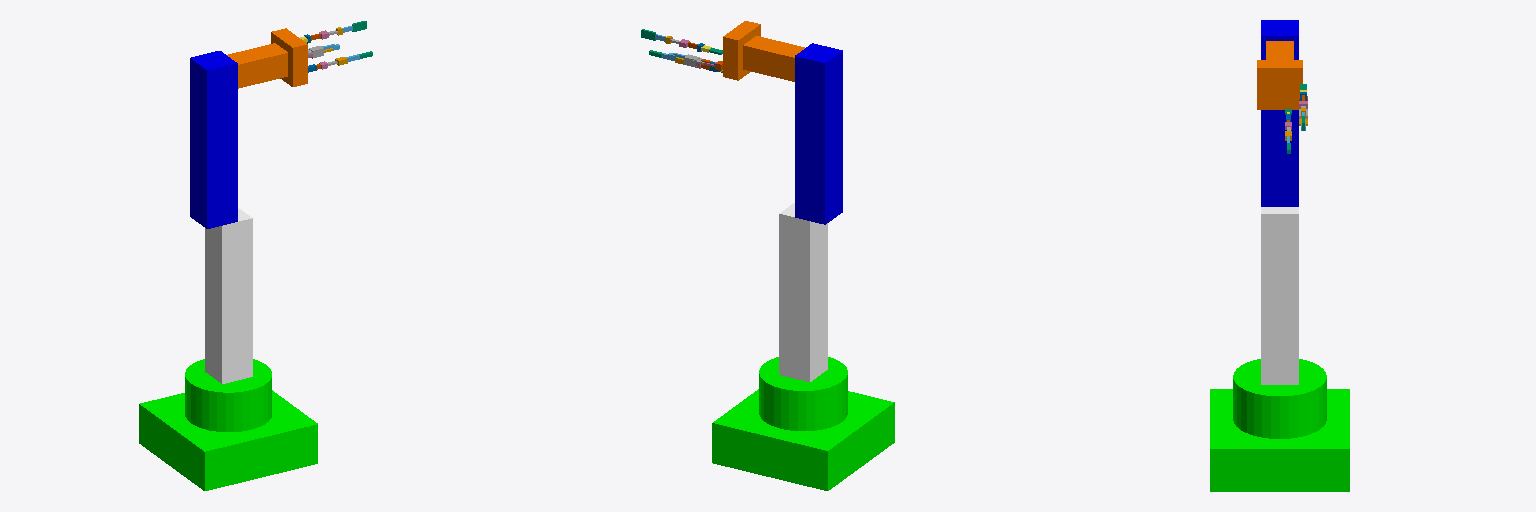
--- Render facts (derived) ---
Views: 3 orthographic renders of the robot side by side, from view 1: azimuth 30°, elevation 25°; view 2: azimuth 150°, elevation 25°; view 3: azimuth 270°, elevation 25°.
Model robot with 35 links and 34 joints (31 revolute, 1 continuous, 2 fixed), rooted at base_link, posed all joints at 0.
Visible links, largest first — view 1: base_link, arm_link, support_link, wrist_link, palm_link; view 2: base_link, arm_link, support_link, wrist_link, palm_link; view 3: base_link, support_link, arm_link, palm_link, wrist_link.
Boxes of the visible links, x1,y1,x2,y2 form: base_link: (139,359,317,490); arm_link: (190,51,237,228); support_link: (205,208,252,383); wrist_link: (227,43,287,88); palm_link: (271,28,307,86); base_link: (712,357,894,490); arm_link: (795,43,842,224); support_link: (779,203,827,381); wrist_link: (743,36,804,81); palm_link: (723,21,760,80); base_link: (1210,359,1349,491); support_link: (1261,207,1298,384); arm_link: (1261,20,1298,206); palm_link: (1257,60,1302,109); wrist_link: (1266,41,1293,59).
Size in the robot's own frame: 1.35 by 0.75 by 2.52 metres.
Geometry: primitives only (box / cylinder / sphere), no mesh files.

The robot description file, URDF, robot "robot":
<?xml version='1.0' encoding='utf-8'?>
<robot name="robot">
  <link name="base_link">
    <visual>
      <origin xyz="0 0 0.125" rpy="0 0 0" />
      <geometry>
        <box size="0.75 0.75 0.25" />
      </geometry>
      <material name="green" />
    </visual>
    <visual>
      <origin xyz="0 0 0.375" rpy="0 0 0" />
      <geometry>
        <cylinder length="0.25" radius="0.25" />
      </geometry>
      <material name="green">
        <color rgba="0 1 0 1" />
      </material>
    </visual>
    <collision>
      <geometry>
        <box size="0.75 0.75 0.5" />
      </geometry>
    </collision>
    <inertial>
      <mass value="0.5" />
      <inertia ixx="0.034" ixy="0.0" ixz="0.0" iyy="0.034" iyz="0.0" izz="0.034" />
    </inertial>
  </link>
  <link name="support_link">
    <visual>
      <origin xyz="0 0 0.5" rpy="0 0 0" />
      <geometry>
        <box size="0.2 0.2 1" />
      </geometry>
      <material name="white">
        <color rgba="1 1 1 1" />
      </material>
    </visual>
    <collision>
      <geometry>
        <box size="0.2 0.2 1" />
      </geometry>
    </collision>
    <inertial>
      <mass value="0.1" />
      <inertia ixx="0.01" ixy="0.0" ixz="0.0" iyy="0.01" iyz="0.0" izz="0.01" />
    </inertial>
  </link>
  <joint name="support_joint" type="continuous">
    <origin xyz="0 0 0.5" rpy="0 0 0" />
    <parent link="base_link" />
    <child link="support_link" />
    <axis xyz="0 0 1" />
  </joint>
  <link name="arm_link">
    <visual>
      <origin xyz="0 0 0.5" rpy="0 0 0" />
      <geometry>
        <box size="0.2 0.2 1" />
      </geometry>
      <material name="blue">
        <color rgba="0 0 1 1" />
      </material>
    </visual>
    <collision>
      <geometry>
        <box size="0.2 0.2 1" />
      </geometry>
    </collision>
    <inertial>
      <mass value="0.1" />
      <inertia ixx="0.01" ixy="0.0" ixz="0.0" iyy="0.01" iyz="0.0" izz="0.01" />
    </inertial>
  </link>
  <joint name="arm_joint" type="revolute">
    <origin xyz="-0.1 0 1" rpy="0 0 0" />
    <parent link="support_link" />
    <child link="arm_link" />
    <axis xyz="0 1 0" />
    <limit lower="-3.14" upper="3.14" effort="1.0" velocity="1.0" />
  </joint>
  <link name="wrist_link">
    <visual>
      <origin xyz="0 0 0.25" rpy="0 0 0" />
      <geometry>
        <box size="0.15 0.15 0.5" />
      </geometry>
      <material name="orange">
        <color rgba="1 0.5 0 1" />
      </material>
    </visual>
    <collision>
      <geometry>
        <box size="0.15 0.15 0.5" />
      </geometry>
    </collision>
    <inertial>
      <mass value="0.1" />
      <inertia ixx="0.01" ixy="0.0" ixz="0.0" iyy="0.01" iyz="0.0" izz="0.01" />
    </inertial>
  </link>
  <joint name="wrist_joint" type="fixed">
    <origin xyz="0 0 0.9" rpy="0 1.571 0" />
    <parent link="arm_link" />
    <child link="wrist_link" />
  </joint>
  <link name="palm_link">
    <visual>
      <origin xyz="0 0 0.05" rpy="0 0 0" />
      <geometry>
        <box size="0.25 0.25 0.1" />
      </geometry>
      <material name="orange" />
    </visual>
    <collision>
      <geometry>
        <box size="0.25 0.25 0.1" />
      </geometry>
    </collision>
    <inertial>
      <mass value="0.1" />
      <inertia ixx="0.01" ixy="0.0" ixz="0.0" iyy="0.01" iyz="0.0" izz="0.01" />
    </inertial>
  </link>
  <joint name="palm_joint" type="fixed">
    <origin xyz="0 0 0.45" rpy="0 0 0" />
    <parent link="wrist_link" />
    <child link="palm_link" />
  </joint>
  <link name="finger_link_0_0">
    <visual>
      <origin xyz="0 0 0.019" rpy="0 0 0" />
      <geometry>
        <box size="0.039 0.043 0.038" />
      </geometry>
    </visual>
    <collision>
      <geometry>
        <box size="0.039 0.043 0.038" />
      </geometry>
    </collision>
    <inertial>
      <mass value="0.019" />
      <inertia ixx="0.0" iyy="0.0" izz="0.0" ixy="0" ixz="0" iyz="0" />
    </inertial>
  </link>
  <joint name="finger_joint_palm_link_to_finger_link_0_0" type="revolute">
    <origin xyz="0.06 0.125 0.1" rpy="0 0 0" />
    <parent link="palm_link" />
    <child link="finger_link_0_0" />
    <axis xyz="-1.0 0.0 0.0" />
    <limit lower="-3.142" upper="3.142" effort="10" velocity="10" />
  </joint>
  <link name="finger_link_0_1">
    <visual>
      <origin xyz="0 0 0.037" rpy="0 0 0" />
      <geometry>
        <box size="0.011 0.041 0.074" />
      </geometry>
    </visual>
    <collision>
      <geometry>
        <box size="0.011 0.041 0.074" />
      </geometry>
    </collision>
    <inertial>
      <mass value="0.01" />
      <inertia ixx="0.0" iyy="0.0" izz="0.0" ixy="0" ixz="0" iyz="0" />
    </inertial>
  </link>
  <joint name="finger_joint_finger_link_0_0_to_finger_link_0_1" type="revolute">
    <origin xyz="0.0 0.0 0.038" rpy="0 0 0" />
    <parent link="finger_link_0_0" />
    <child link="finger_link_0_1" />
    <axis xyz="0.0 1.0 0.0" />
    <limit lower="-3.142" upper="3.142" effort="10" velocity="10" />
  </joint>
  <link name="finger_link_0_2">
    <visual>
      <origin xyz="0 0 0.044" rpy="0 0 0" />
      <geometry>
        <box size="0.012 0.048 0.088" />
      </geometry>
    </visual>
    <collision>
      <geometry>
        <box size="0.012 0.048 0.088" />
      </geometry>
    </collision>
    <inertial>
      <mass value="0.015" />
      <inertia ixx="0.0" iyy="0.0" izz="0.0" ixy="0" ixz="0" iyz="0" />
    </inertial>
  </link>
  <joint name="finger_joint_finger_link_0_1_to_finger_link_0_2" type="revolute">
    <origin xyz="0.0 0.0 0.074" rpy="0 0 0" />
    <parent link="finger_link_0_1" />
    <child link="finger_link_0_2" />
    <axis xyz="0.0 1.0 0.0" />
    <limit lower="-3.142" upper="3.142" effort="10" velocity="10" />
  </joint>
  <link name="finger_link_0_3">
    <visual>
      <origin xyz="0 0 0.013" rpy="0 0 0" />
      <geometry>
        <box size="0.02 0.017 0.026" />
      </geometry>
    </visual>
    <collision>
      <geometry>
        <box size="0.02 0.017 0.026" />
      </geometry>
    </collision>
    <inertial>
      <mass value="0.003" />
      <inertia ixx="0.0" iyy="0.0" izz="0.0" ixy="0" ixz="0" iyz="0" />
    </inertial>
  </link>
  <joint name="finger_joint_finger_link_0_2_to_finger_link_0_3" type="revolute">
    <origin xyz="0.0 0.0 0.088" rpy="0 0 0" />
    <parent link="finger_link_0_2" />
    <child link="finger_link_0_3" />
    <axis xyz="1.0 0.0 0.0" />
    <limit lower="-3.142" upper="3.142" effort="10" velocity="10" />
  </joint>
  <link name="finger_link_0_4">
    <visual>
      <origin xyz="0 0 0.048" rpy="0 0 0" />
      <geometry>
        <box size="0.019 0.016 0.096" />
      </geometry>
    </visual>
    <collision>
      <geometry>
        <box size="0.019 0.016 0.096" />
      </geometry>
    </collision>
    <inertial>
      <mass value="0.009" />
      <inertia ixx="0.0" iyy="0.0" izz="0.0" ixy="0" ixz="0" iyz="0" />
    </inertial>
  </link>
  <joint name="finger_joint_finger_link_0_3_to_finger_link_0_4" type="revolute">
    <origin xyz="0.0 0.0 0.026" rpy="0 0 0" />
    <parent link="finger_link_0_3" />
    <child link="finger_link_0_4" />
    <axis xyz="1.0 0.0 0.0" />
    <limit lower="-3.142" upper="3.142" effort="10" velocity="10" />
  </joint>
  <link name="finger_link_1_0">
    <visual>
      <origin xyz="0 0 0.041" rpy="0 0 0" />
      <geometry>
        <box size="0.012 0.038 0.082" />
      </geometry>
    </visual>
    <collision>
      <geometry>
        <box size="0.012 0.038 0.082" />
      </geometry>
    </collision>
    <inertial>
      <mass value="0.011" />
      <inertia ixx="0.0" iyy="0.0" izz="0.0" ixy="0" ixz="0" iyz="0" />
    </inertial>
  </link>
  <joint name="finger_joint_palm_link_to_finger_link_1_0" type="revolute">
    <origin xyz="-0.024 0.125 0.1" rpy="0 0 0" />
    <parent link="palm_link" />
    <child link="finger_link_1_0" />
    <axis xyz="-1.0 0.0 0.0" />
    <limit lower="-3.142" upper="3.142" effort="10" velocity="10" />
  </joint>
  <link name="finger_link_1_1">
    <visual>
      <origin xyz="0 0 0.0245" rpy="0 0 0" />
      <geometry>
        <box size="0.023 0.036 0.049" />
      </geometry>
    </visual>
    <collision>
      <geometry>
        <box size="0.023 0.036 0.049" />
      </geometry>
    </collision>
    <inertial>
      <mass value="0.012" />
      <inertia ixx="0.0" iyy="0.0" izz="0.0" ixy="0" ixz="0" iyz="0" />
    </inertial>
  </link>
  <joint name="finger_joint_finger_link_1_0_to_finger_link_1_1" type="revolute">
    <origin xyz="0.0 0.0 0.082" rpy="0 0 0" />
    <parent link="finger_link_1_0" />
    <child link="finger_link_1_1" />
    <axis xyz="0.0 1.0 0.0" />
    <limit lower="-3.142" upper="3.142" effort="10" velocity="10" />
  </joint>
  <link name="finger_link_1_2">
    <visual>
      <origin xyz="0 0 0.0125" rpy="0 0 0" />
      <geometry>
        <box size="0.038 0.038 0.025" />
      </geometry>
    </visual>
    <collision>
      <geometry>
        <box size="0.038 0.038 0.025" />
      </geometry>
    </collision>
    <inertial>
      <mass value="0.011" />
      <inertia ixx="0.0" iyy="0.0" izz="0.0" ixy="0" ixz="0" iyz="0" />
    </inertial>
  </link>
  <joint name="finger_joint_finger_link_1_1_to_finger_link_1_2" type="revolute">
    <origin xyz="0.0 0.0 0.049" rpy="0 0 0" />
    <parent link="finger_link_1_1" />
    <child link="finger_link_1_2" />
    <axis xyz="1.0 0.0 0.0" />
    <limit lower="-3.142" upper="3.142" effort="10" velocity="10" />
  </joint>
  <link name="finger_link_1_3">
    <visual>
      <origin xyz="0 0 0.0355" rpy="0 0 0" />
      <geometry>
        <box size="0.028 0.011 0.071" />
      </geometry>
    </visual>
    <collision>
      <geometry>
        <box size="0.028 0.011 0.071" />
      </geometry>
    </collision>
    <inertial>
      <mass value="0.007" />
      <inertia ixx="0.0" iyy="0.0" izz="0.0" ixy="0" ixz="0" iyz="0" />
    </inertial>
  </link>
  <joint name="finger_joint_finger_link_1_2_to_finger_link_1_3" type="revolute">
    <origin xyz="0.0 0.0 0.025" rpy="0 0 0" />
    <parent link="finger_link_1_2" />
    <child link="finger_link_1_3" />
    <axis xyz="0.0 1.0 0.0" />
    <limit lower="-3.142" upper="3.142" effort="10" velocity="10" />
  </joint>
  <link name="finger_link_1_4">
    <visual>
      <origin xyz="0 0 0.023" rpy="0 0 0" />
      <geometry>
        <box size="0.029 0.045 0.046" />
      </geometry>
    </visual>
    <collision>
      <geometry>
        <box size="0.029 0.045 0.046" />
      </geometry>
    </collision>
    <inertial>
      <mass value="0.018" />
      <inertia ixx="0.0" iyy="0.0" izz="0.0" ixy="0" ixz="0" iyz="0" />
    </inertial>
  </link>
  <joint name="finger_joint_finger_link_1_3_to_finger_link_1_4" type="revolute">
    <origin xyz="0.0 0.0 0.071" rpy="0 0 0" />
    <parent link="finger_link_1_3" />
    <child link="finger_link_1_4" />
    <axis xyz="1.0 0.0 0.0" />
    <limit lower="-3.142" upper="3.142" effort="10" velocity="10" />
  </joint>
  <link name="finger_link_1_5">
    <visual>
      <origin xyz="0 0 0.031" rpy="0 0 0" />
      <geometry>
        <box size="0.012 0.022 0.062" />
      </geometry>
    </visual>
    <collision>
      <geometry>
        <box size="0.012 0.022 0.062" />
      </geometry>
    </collision>
    <inertial>
      <mass value="0.005" />
      <inertia ixx="0.0" iyy="0.0" izz="0.0" ixy="0" ixz="0" iyz="0" />
    </inertial>
  </link>
  <joint name="finger_joint_finger_link_1_4_to_finger_link_1_5" type="revolute">
    <origin xyz="0.0 0.0 0.046" rpy="0 0 0" />
    <parent link="finger_link_1_4" />
    <child link="finger_link_1_5" />
    <axis xyz="0.0 1.0 0.0" />
    <limit lower="-3.142" upper="3.142" effort="10" velocity="10" />
  </joint>
  <link name="finger_link_1_6">
    <visual>
      <origin xyz="0 0 0.015" rpy="0 0 0" />
      <geometry>
        <box size="0.037 0.029 0.03" />
      </geometry>
    </visual>
    <collision>
      <geometry>
        <box size="0.037 0.029 0.03" />
      </geometry>
    </collision>
    <inertial>
      <mass value="0.01" />
      <inertia ixx="0.0" iyy="0.0" izz="0.0" ixy="0" ixz="0" iyz="0" />
    </inertial>
  </link>
  <joint name="finger_joint_finger_link_1_5_to_finger_link_1_6" type="revolute">
    <origin xyz="0.0 0.0 0.062" rpy="0 0 0" />
    <parent link="finger_link_1_5" />
    <child link="finger_link_1_6" />
    <axis xyz="1.0 0.0 0.0" />
    <limit lower="-3.142" upper="3.142" effort="10" velocity="10" />
  </joint>
  <link name="finger_link_1_7">
    <visual>
      <origin xyz="0 0 0.0355" rpy="0 0 0" />
      <geometry>
        <box size="0.027 0.012 0.071" />
      </geometry>
    </visual>
    <collision>
      <geometry>
        <box size="0.027 0.012 0.071" />
      </geometry>
    </collision>
    <inertial>
      <mass value="0.007" />
      <inertia ixx="0.0" iyy="0.0" izz="0.0" ixy="0" ixz="0" iyz="0" />
    </inertial>
  </link>
  <joint name="finger_joint_finger_link_1_6_to_finger_link_1_7" type="revolute">
    <origin xyz="0.0 0.0 0.03" rpy="0 0 0" />
    <parent link="finger_link_1_6" />
    <child link="finger_link_1_7" />
    <axis xyz="1.0 0.0 0.0" />
    <limit lower="-3.142" upper="3.142" effort="10" velocity="10" />
  </joint>
  <link name="finger_link_1_8">
    <visual>
      <origin xyz="0 0 0.045" rpy="0 0 0" />
      <geometry>
        <box size="0.048 0.015 0.09" />
      </geometry>
    </visual>
    <collision>
      <geometry>
        <box size="0.048 0.015 0.09" />
      </geometry>
    </collision>
    <inertial>
      <mass value="0.019" />
      <inertia ixx="0.0" iyy="0.0" izz="0.0" ixy="0" ixz="0" iyz="0" />
    </inertial>
  </link>
  <joint name="finger_joint_finger_link_1_7_to_finger_link_1_8" type="revolute">
    <origin xyz="0.0 0.0 0.071" rpy="0 0 0" />
    <parent link="finger_link_1_7" />
    <child link="finger_link_1_8" />
    <axis xyz="0.0 1.0 0.0" />
    <limit lower="-3.142" upper="3.142" effort="10" velocity="10" />
  </joint>
  <link name="finger_link_2_0">
    <visual>
      <origin xyz="0 0 0.0065" rpy="0 0 0" />
      <geometry>
        <box size="0.023 0.042 0.013" />
      </geometry>
    </visual>
    <collision>
      <geometry>
        <box size="0.023 0.042 0.013" />
      </geometry>
    </collision>
    <inertial>
      <mass value="0.004" />
      <inertia ixx="0.0" iyy="0.0" izz="0.0" ixy="0" ixz="0" iyz="0" />
    </inertial>
  </link>
  <joint name="finger_joint_palm_link_to_finger_link_2_0" type="revolute">
    <origin xyz="0.072 0.125 0.1" rpy="0 0 0" />
    <parent link="palm_link" />
    <child link="finger_link_2_0" />
    <axis xyz="-1.0 0.0 0.0" />
    <limit lower="-3.142" upper="3.142" effort="10" velocity="10" />
  </joint>
  <link name="finger_link_2_1">
    <visual>
      <origin xyz="0 0 0.0315" rpy="0 0 0" />
      <geometry>
        <box size="0.039 0.024 0.063" />
      </geometry>
    </visual>
    <collision>
      <geometry>
        <box size="0.039 0.024 0.063" />
      </geometry>
    </collision>
    <inertial>
      <mass value="0.018" />
      <inertia ixx="0.0" iyy="0.0" izz="0.0" ixy="0" ixz="0" iyz="0" />
    </inertial>
  </link>
  <joint name="finger_joint_finger_link_2_0_to_finger_link_2_1" type="revolute">
    <origin xyz="0.0 0.0 0.013" rpy="0 0 0" />
    <parent link="finger_link_2_0" />
    <child link="finger_link_2_1" />
    <axis xyz="0.0 1.0 0.0" />
    <limit lower="-3.142" upper="3.142" effort="10" velocity="10" />
  </joint>
  <link name="finger_link_2_2">
    <visual>
      <origin xyz="0 0 0.0295" rpy="0 0 0" />
      <geometry>
        <box size="0.048 0.024 0.059" />
      </geometry>
    </visual>
    <collision>
      <geometry>
        <box size="0.048 0.024 0.059" />
      </geometry>
    </collision>
    <inertial>
      <mass value="0.02" />
      <inertia ixx="0.0" iyy="0.0" izz="0.0" ixy="0" ixz="0" iyz="0" />
    </inertial>
  </link>
  <joint name="finger_joint_finger_link_2_1_to_finger_link_2_2" type="revolute">
    <origin xyz="0.0 0.0 0.063" rpy="0 0 0" />
    <parent link="finger_link_2_1" />
    <child link="finger_link_2_2" />
    <axis xyz="0.0 1.0 0.0" />
    <limit lower="-3.142" upper="3.142" effort="10" velocity="10" />
  </joint>
  <link name="finger_link_2_3">
    <visual>
      <origin xyz="0 0 0.0135" rpy="0 0 0" />
      <geometry>
        <box size="0.029 0.043 0.027" />
      </geometry>
    </visual>
    <collision>
      <geometry>
        <box size="0.029 0.043 0.027" />
      </geometry>
    </collision>
    <inertial>
      <mass value="0.01" />
      <inertia ixx="0.0" iyy="0.0" izz="0.0" ixy="0" ixz="0" iyz="0" />
    </inertial>
  </link>
  <joint name="finger_joint_finger_link_2_2_to_finger_link_2_3" type="revolute">
    <origin xyz="0.0 0.0 0.059" rpy="0 0 0" />
    <parent link="finger_link_2_2" />
    <child link="finger_link_2_3" />
    <axis xyz="0.0 1.0 0.0" />
    <limit lower="-3.142" upper="3.142" effort="10" velocity="10" />
  </joint>
  <link name="finger_link_2_4">
    <visual>
      <origin xyz="0 0 0.0385" rpy="0 0 0" />
      <geometry>
        <box size="0.047 0.044 0.077" />
      </geometry>
    </visual>
    <collision>
      <geometry>
        <box size="0.047 0.044 0.077" />
      </geometry>
    </collision>
    <inertial>
      <mass value="0.048" />
      <inertia ixx="0.0" iyy="0.0" izz="0.0" ixy="0" ixz="0" iyz="0" />
    </inertial>
  </link>
  <joint name="finger_joint_finger_link_2_3_to_finger_link_2_4" type="revolute">
    <origin xyz="0.0 0.0 0.027" rpy="0 0 0" />
    <parent link="finger_link_2_3" />
    <child link="finger_link_2_4" />
    <axis xyz="0.0 1.0 0.0" />
    <limit lower="-3.142" upper="3.142" effort="10" velocity="10" />
  </joint>
  <link name="finger_link_2_5">
    <visual>
      <origin xyz="0 0 0.0295" rpy="0 0 0" />
      <geometry>
        <box size="0.012 0.045 0.059" />
      </geometry>
    </visual>
    <collision>
      <geometry>
        <box size="0.012 0.045 0.059" />
      </geometry>
    </collision>
    <inertial>
      <mass value="0.01" />
      <inertia ixx="0.0" iyy="0.0" izz="0.0" ixy="0" ixz="0" iyz="0" />
    </inertial>
  </link>
  <joint name="finger_joint_finger_link_2_4_to_finger_link_2_5" type="revolute">
    <origin xyz="0.0 0.0 0.077" rpy="0 0 0" />
    <parent link="finger_link_2_4" />
    <child link="finger_link_2_5" />
    <axis xyz="1.0 0.0 0.0" />
    <limit lower="-3.142" upper="3.142" effort="10" velocity="10" />
  </joint>
  <link name="finger_link_2_6">
    <visual>
      <origin xyz="0 0 0.025" rpy="0 0 0" />
      <geometry>
        <box size="0.024 0.022 0.05" />
      </geometry>
    </visual>
    <collision>
      <geometry>
        <box size="0.024 0.022 0.05" />
      </geometry>
    </collision>
    <inertial>
      <mass value="0.008" />
      <inertia ixx="0.0" iyy="0.0" izz="0.0" ixy="0" ixz="0" iyz="0" />
    </inertial>
  </link>
  <joint name="finger_joint_finger_link_2_5_to_finger_link_2_6" type="revolute">
    <origin xyz="0.0 0.0 0.059" rpy="0 0 0" />
    <parent link="finger_link_2_5" />
    <child link="finger_link_2_6" />
    <axis xyz="1.0 0.0 0.0" />
    <limit lower="-3.142" upper="3.142" effort="10" velocity="10" />
  </joint>
  <link name="finger_link_3_0">
    <visual>
      <origin xyz="0 0 0.023" rpy="0 0 0" />
      <geometry>
        <box size="0.012 0.04 0.046" />
      </geometry>
    </visual>
    <collision>
      <geometry>
        <box size="0.012 0.04 0.046" />
      </geometry>
    </collision>
    <inertial>
      <mass value="0.007" />
      <inertia ixx="0.0" iyy="0.0" izz="0.0" ixy="0" ixz="0" iyz="0" />
    </inertial>
  </link>
  <joint name="finger_joint_palm_link_to_finger_link_3_0" type="revolute">
    <origin xyz="0.125 0.046 0.1" rpy="0 0 0" />
    <parent link="palm_link" />
    <child link="finger_link_3_0" />
    <axis xyz="0.0 1.0 0.0" />
    <limit lower="-3.142" upper="3.142" effort="10" velocity="10" />
  </joint>
  <link name="finger_link_3_1">
    <visual>
      <origin xyz="0 0 0.016" rpy="0 0 0" />
      <geometry>
        <box size="0.018 0.014 0.032" />
      </geometry>
    </visual>
    <collision>
      <geometry>
        <box size="0.018 0.014 0.032" />
      </geometry>
    </collision>
    <inertial>
      <mass value="0.002" />
      <inertia ixx="0.0" iyy="0.0" izz="0.0" ixy="0" ixz="0" iyz="0" />
    </inertial>
  </link>
  <joint name="finger_joint_finger_link_3_0_to_finger_link_3_1" type="revolute">
    <origin xyz="0.0 0.0 0.046" rpy="0 0 0" />
    <parent link="finger_link_3_0" />
    <child link="finger_link_3_1" />
    <axis xyz="0.0 1.0 0.0" />
    <limit lower="-3.142" upper="3.142" effort="10" velocity="10" />
  </joint>
  <link name="finger_link_3_2">
    <visual>
      <origin xyz="0 0 0.036" rpy="0 0 0" />
      <geometry>
        <box size="0.03 0.027 0.072" />
      </geometry>
    </visual>
    <collision>
      <geometry>
        <box size="0.03 0.027 0.072" />
      </geometry>
    </collision>
    <inertial>
      <mass value="0.017" />
      <inertia ixx="0.0" iyy="0.0" izz="0.0" ixy="0" ixz="0" iyz="0" />
    </inertial>
  </link>
  <joint name="finger_joint_finger_link_3_1_to_finger_link_3_2" type="revolute">
    <origin xyz="0.0 0.0 0.032" rpy="0 0 0" />
    <parent link="finger_link_3_1" />
    <child link="finger_link_3_2" />
    <axis xyz="1.0 0.0 0.0" />
    <limit lower="-3.142" upper="3.142" effort="10" velocity="10" />
  </joint>
  <link name="finger_link_3_3">
    <visual>
      <origin xyz="0 0 0.0155" rpy="0 0 0" />
      <geometry>
        <box size="0.024 0.017 0.031" />
      </geometry>
    </visual>
    <collision>
      <geometry>
        <box size="0.024 0.017 0.031" />
      </geometry>
    </collision>
    <inertial>
      <mass value="0.004" />
      <inertia ixx="0.0" iyy="0.0" izz="0.0" ixy="0" ixz="0" iyz="0" />
    </inertial>
  </link>
  <joint name="finger_joint_finger_link_3_2_to_finger_link_3_3" type="revolute">
    <origin xyz="0.0 0.0 0.072" rpy="0 0 0" />
    <parent link="finger_link_3_2" />
    <child link="finger_link_3_3" />
    <axis xyz="0.0 1.0 0.0" />
    <limit lower="-3.142" upper="3.142" effort="10" velocity="10" />
  </joint>
  <link name="finger_link_3_4">
    <visual>
      <origin xyz="0 0 0.0205" rpy="0 0 0" />
      <geometry>
        <box size="0.028 0.04 0.041" />
      </geometry>
    </visual>
    <collision>
      <geometry>
        <box size="0.028 0.04 0.041" />
      </geometry>
    </collision>
    <inertial>
      <mass value="0.014" />
      <inertia ixx="0.0" iyy="0.0" izz="0.0" ixy="0" ixz="0" iyz="0" />
    </inertial>
  </link>
  <joint name="finger_joint_finger_link_3_3_to_finger_link_3_4" type="revolute">
    <origin xyz="0.0 0.0 0.031" rpy="0 0 0" />
    <parent link="finger_link_3_3" />
    <child link="finger_link_3_4" />
    <axis xyz="1.0 0.0 0.0" />
    <limit lower="-3.142" upper="3.142" effort="10" velocity="10" />
  </joint>
  <link name="finger_link_3_5">
    <visual>
      <origin xyz="0 0 0.0335" rpy="0 0 0" />
      <geometry>
        <box size="0.012 0.02 0.067" />
      </geometry>
    </visual>
    <collision>
      <geometry>
        <box size="0.012 0.02 0.067" />
      </geometry>
    </collision>
    <inertial>
      <mass value="0.005" />
      <inertia ixx="0.0" iyy="0.0" izz="0.0" ixy="0" ixz="0" iyz="0" />
    </inertial>
  </link>
  <joint name="finger_joint_finger_link_3_4_to_finger_link_3_5" type="revolute">
    <origin xyz="0.0 0.0 0.041" rpy="0 0 0" />
    <parent link="finger_link_3_4" />
    <child link="finger_link_3_5" />
    <axis xyz="0.0 1.0 0.0" />
    <limit lower="-3.142" upper="3.142" effort="10" velocity="10" />
  </joint>
  <link name="finger_link_3_6">
    <visual>
      <origin xyz="0 0 0.03" rpy="0 0 0" />
      <geometry>
        <box size="0.03 0.039 0.06" />
      </geometry>
    </visual>
    <collision>
      <geometry>
        <box size="0.03 0.039 0.06" />
      </geometry>
    </collision>
    <inertial>
      <mass value="0.021" />
      <inertia ixx="0.0" iyy="0.0" izz="0.0" ixy="0" ixz="0" iyz="0" />
    </inertial>
  </link>
  <joint name="finger_joint_finger_link_3_5_to_finger_link_3_6" type="revolute">
    <origin xyz="0.0 0.0 0.067" rpy="0 0 0" />
    <parent link="finger_link_3_5" />
    <child link="finger_link_3_6" />
    <axis xyz="0.0 1.0 0.0" />
    <limit lower="-3.142" upper="3.142" effort="10" velocity="10" />
  </joint>
  <link name="finger_link_3_7">
    <visual>
      <origin xyz="0 0 0.045" rpy="0 0 0" />
      <geometry>
        <box size="0.026 0.017 0.09" />
      </geometry>
    </visual>
    <collision>
      <geometry>
        <box size="0.026 0.017 0.09" />
      </geometry>
    </collision>
    <inertial>
      <mass value="0.012" />
      <inertia ixx="0.0" iyy="0.0" izz="0.0" ixy="0" ixz="0" iyz="0" />
    </inertial>
  </link>
  <joint name="finger_joint_finger_link_3_6_to_finger_link_3_7" type="revolute">
    <origin xyz="0.0 0.0 0.06" rpy="0 0 0" />
    <parent link="finger_link_3_6" />
    <child link="finger_link_3_7" />
    <axis xyz="0.0 1.0 0.0" />
    <limit lower="-3.142" upper="3.142" effort="10" velocity="10" />
  </joint>
  <link name="finger_link_3_8">
    <visual>
      <origin xyz="0 0 0.041" rpy="0 0 0" />
      <geometry>
        <box size="0.023 0.021 0.082" />
      </geometry>
    </visual>
    <collision>
      <geometry>
        <box size="0.023 0.021 0.082" />
      </geometry>
    </collision>
    <inertial>
      <mass value="0.012" />
      <inertia ixx="0.0" iyy="0.0" izz="0.0" ixy="0" ixz="0" iyz="0" />
    </inertial>
  </link>
  <joint name="finger_joint_finger_link_3_7_to_finger_link_3_8" type="revolute">
    <origin xyz="0.0 0.0 0.09" rpy="0 0 0" />
    <parent link="finger_link_3_7" />
    <child link="finger_link_3_8" />
    <axis xyz="0.0 1.0 0.0" />
    <limit lower="-3.142" upper="3.142" effort="10" velocity="10" />
  </joint>
</robot>
